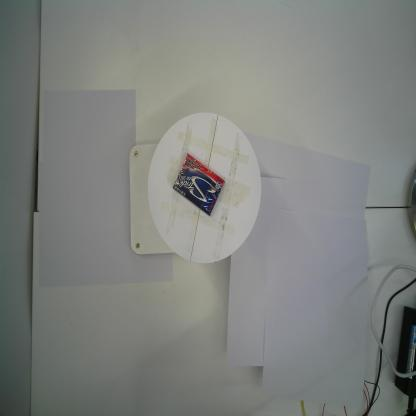Gum: (172, 152, 226, 217)
